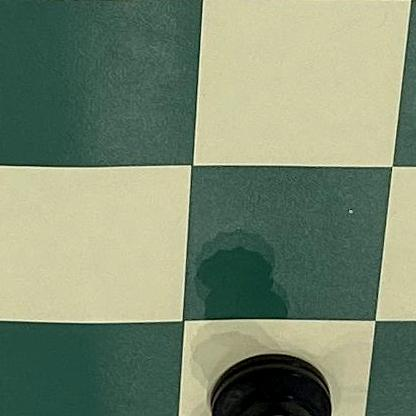black-queen: (206, 349, 337, 416)
